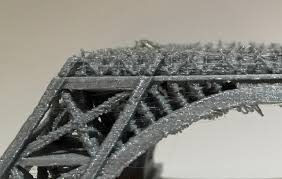fail: (51, 37, 282, 78), (49, 89, 114, 151), (200, 101, 271, 121)
